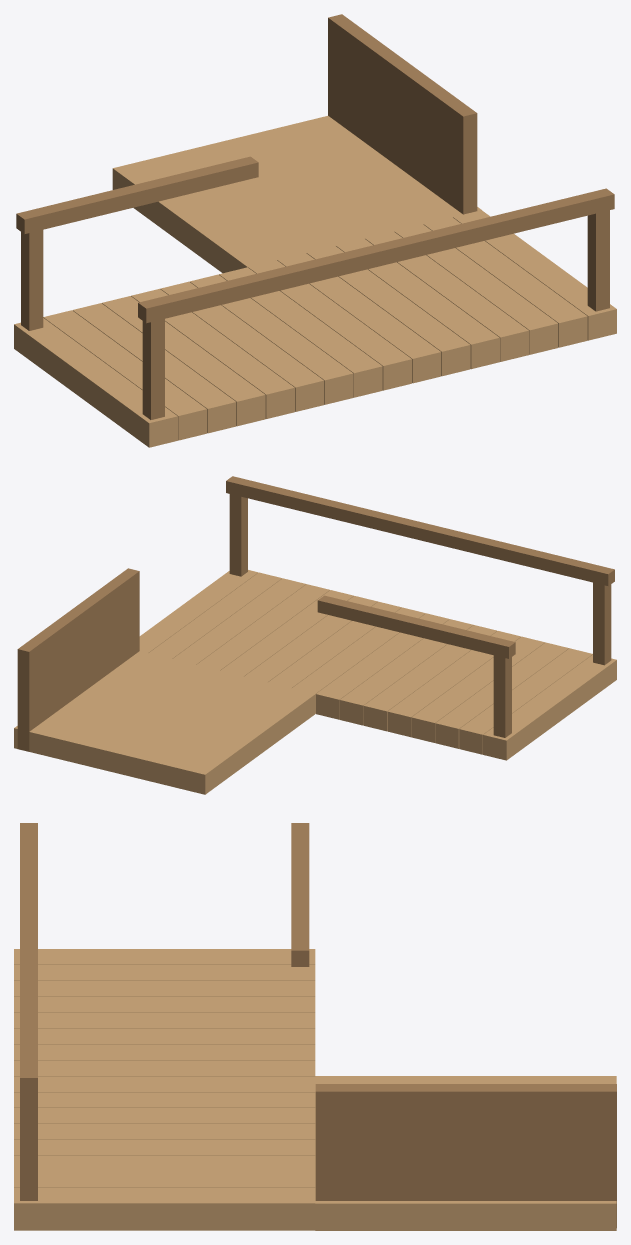
Rendered from timber-walkway-corner.glb.
3 renders of one model, top to bottom at view 1: azimuth 30°, elevation 25°; view 2: azimuth 150°, elevation 25°; view 3: azimuth 270°, elevation 25°, orthographic. The views are drawn at different scales.
Parts seen in each view (by area): view 1: timber-walkway-corner; view 2: timber-walkway-corner; view 3: timber-walkway-corner.
Part boxes in pixels (bbox=[...]): timber-walkway-corner: bbox=[14, 14, 616, 447]; timber-walkway-corner: bbox=[14, 476, 616, 794]; timber-walkway-corner: bbox=[14, 823, 616, 1230].
Size of the model in its own units: 4 by 1.12 by 4.
